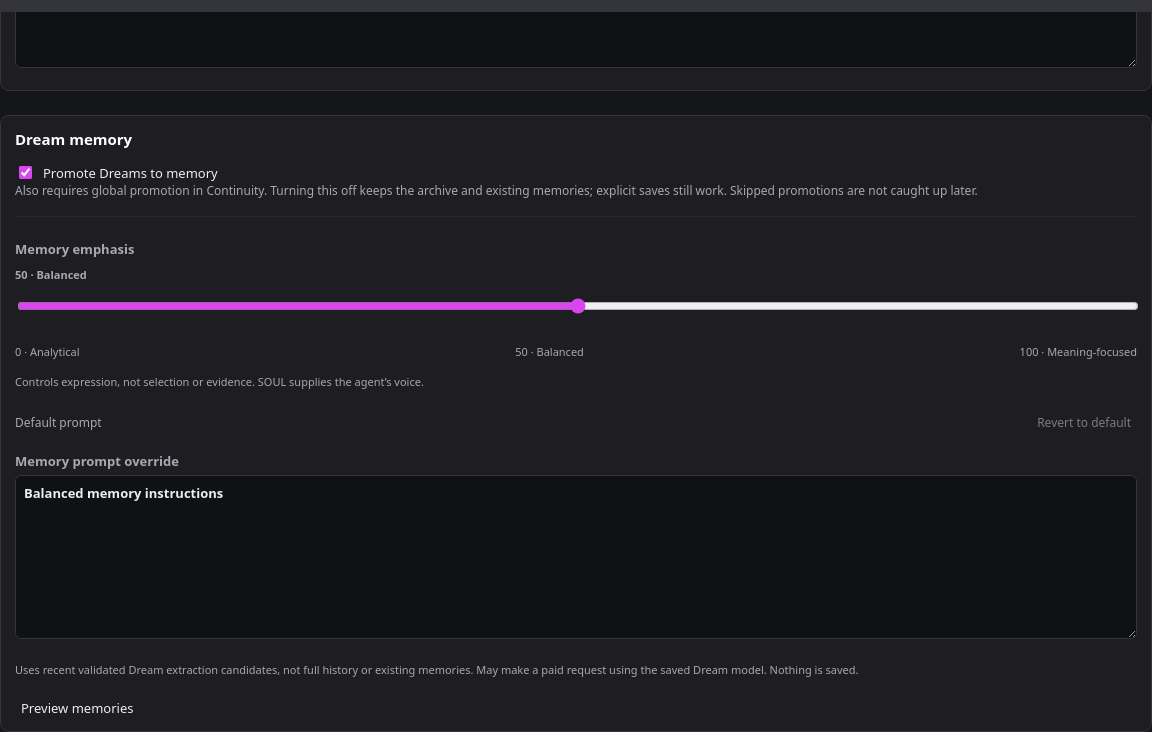
Test case: shows empty sources and model errors without regenerating
The image size is (1152, 732).
(page scrolled)
Expected: the slider labelled "Memory emphasis" is enabled, [17,289,1139,323]
Click the button "Preview memories" at (77, 708), box [15,698,140,718]
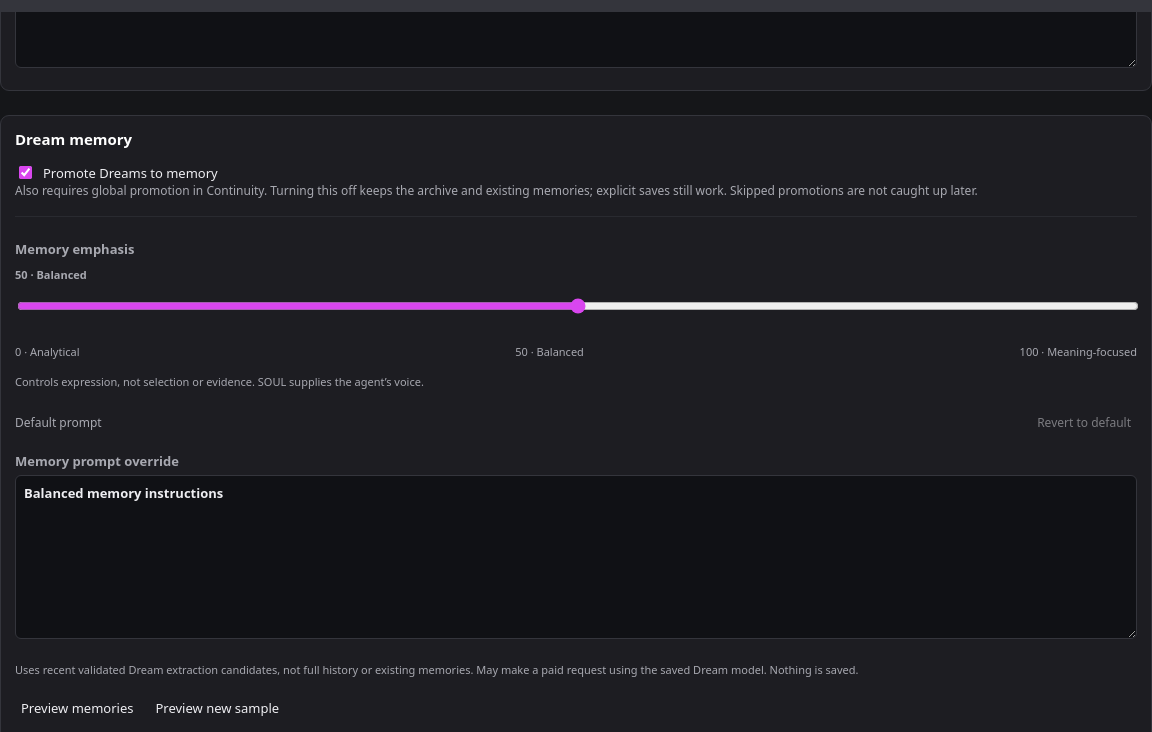
Click the button "Preview memories" at (77, 708), box [15,698,140,718]
(page scrolled)
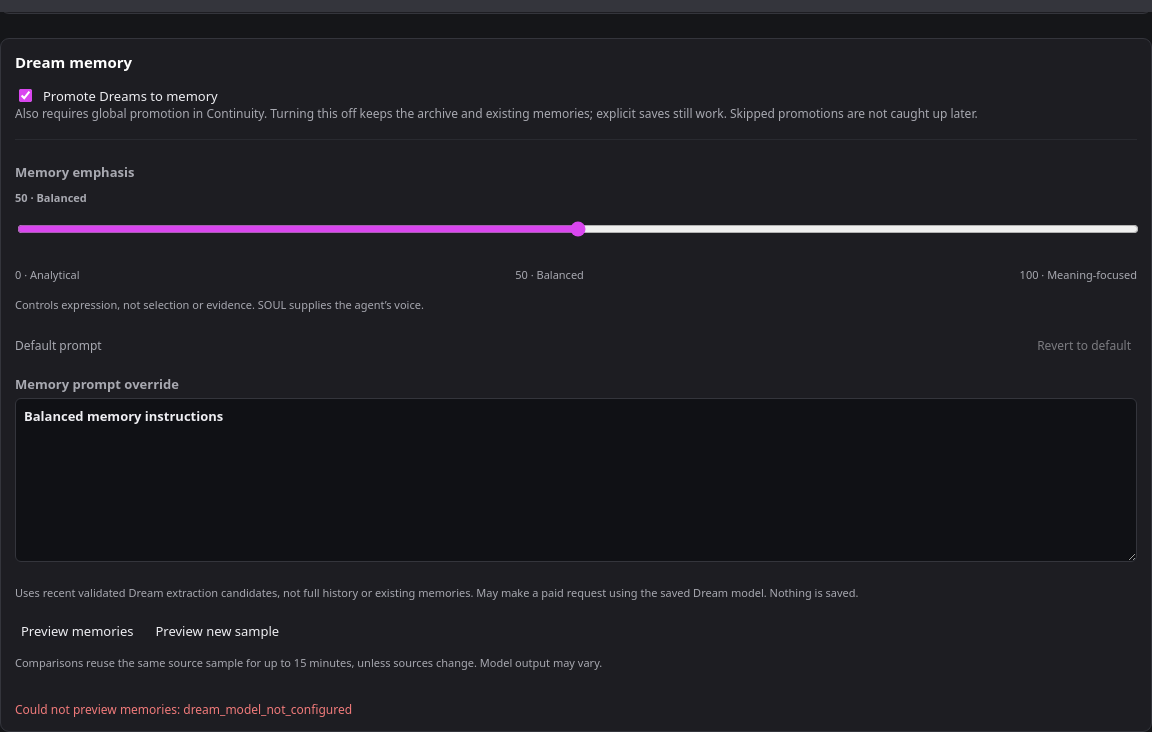
Expected: the message shows "dream_model_not_configured", [15,701,352,718]
